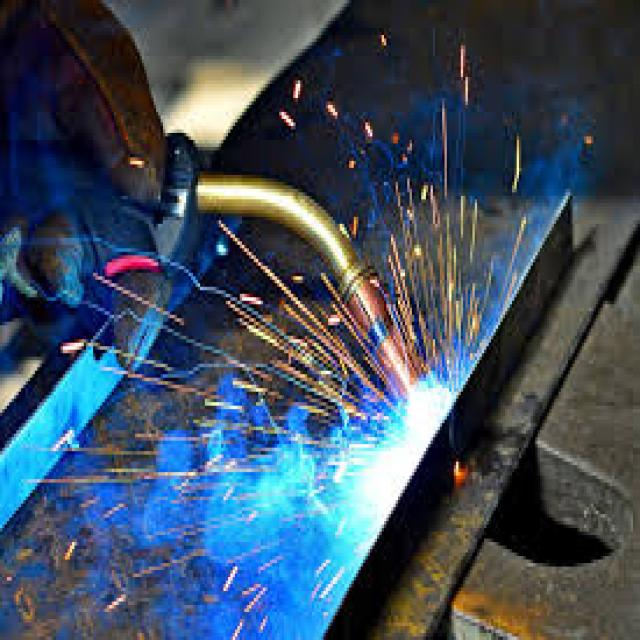welding: (365, 440, 421, 527), (409, 391, 453, 443)
